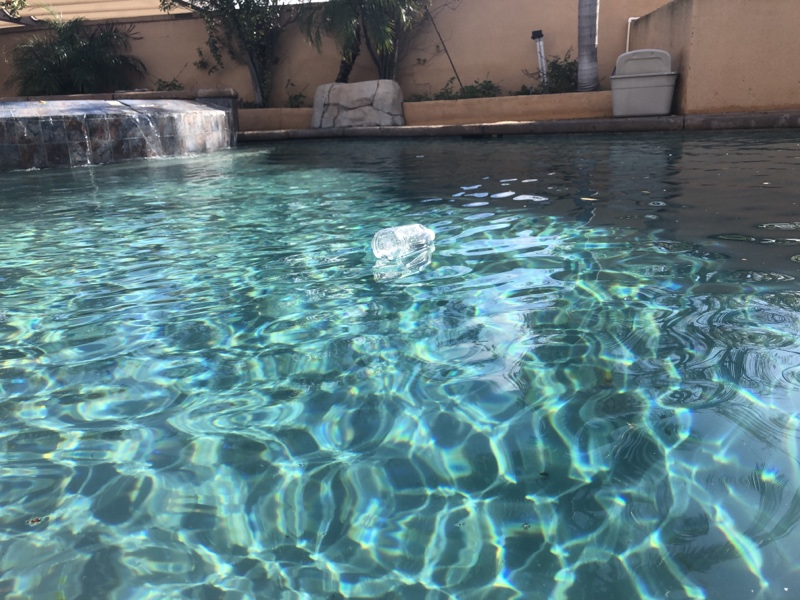Plastic Bottle: (368, 221, 440, 260)
